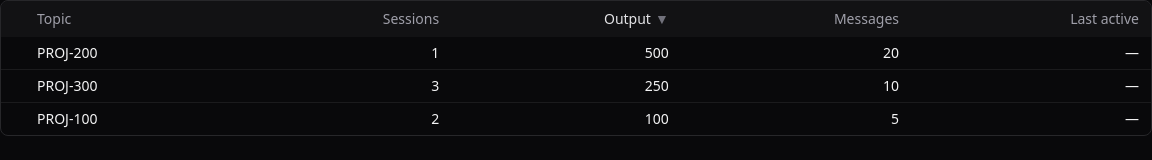
Test: UsageList › switches sort key when a different header is clicked
The image size is (1152, 160).
Step 1. Click the column heading "Sessions" → {"x": 411, "y": 18}, box [243,1,451,37]
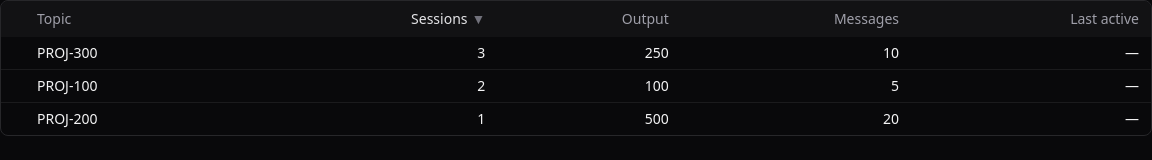
Result: the row "PROJ-300 3 250 10 —" is shown at [1,37,1151,70]
